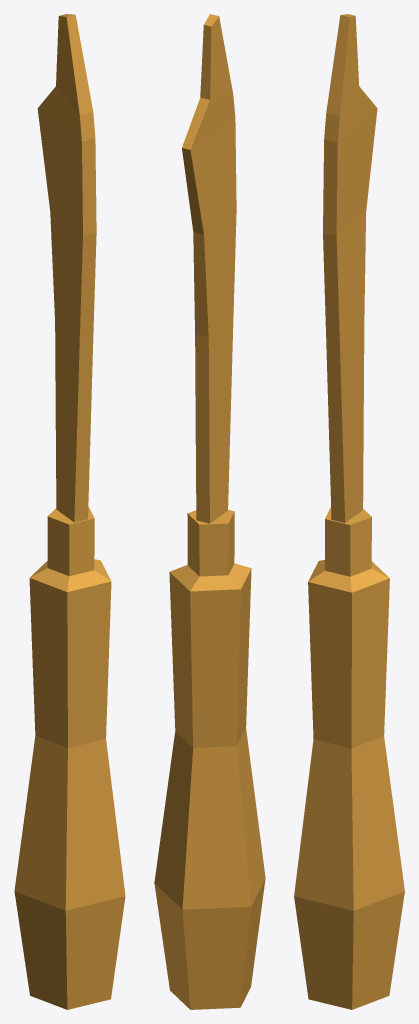
Rendered from SM_Letter_Knife.fbx.
3 renders of one model, left to right at view 1: azimuth 30°, elevation 25°; view 2: azimuth 150°, elevation 25°; view 3: azimuth 330°, elevation 25°, orthographic.
Visible parts, largest first — view 1: letter-knife; view 2: letter-knife; view 3: letter-knife.
Boxes of the visible parts, x1,y1,x2,y2 form: letter-knife: [14, 14, 125, 1009]; letter-knife: [154, 14, 265, 1009]; letter-knife: [294, 14, 404, 1009].
Size of the model in its own units: 0.0312 by 0.3017 by 0.0297.
